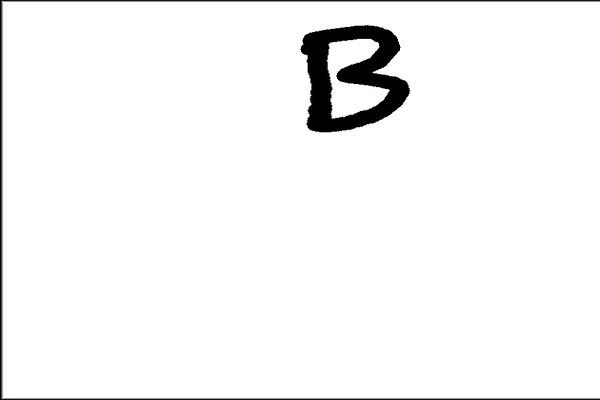B: (289, 17, 417, 138)
